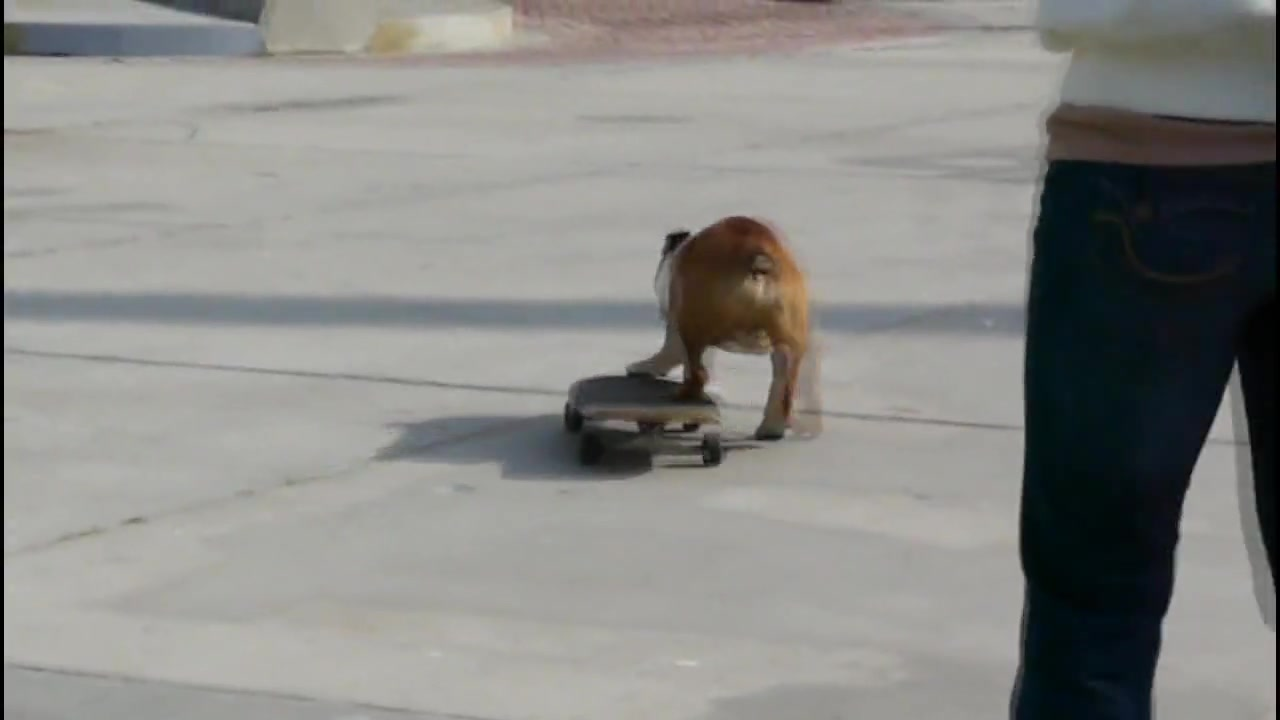dog: (629, 210, 813, 442)
